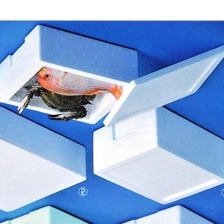foam_box: (0, 23, 223, 129), (88, 102, 224, 208), (0, 103, 88, 214), (110, 201, 224, 224), (0, 202, 98, 224)
